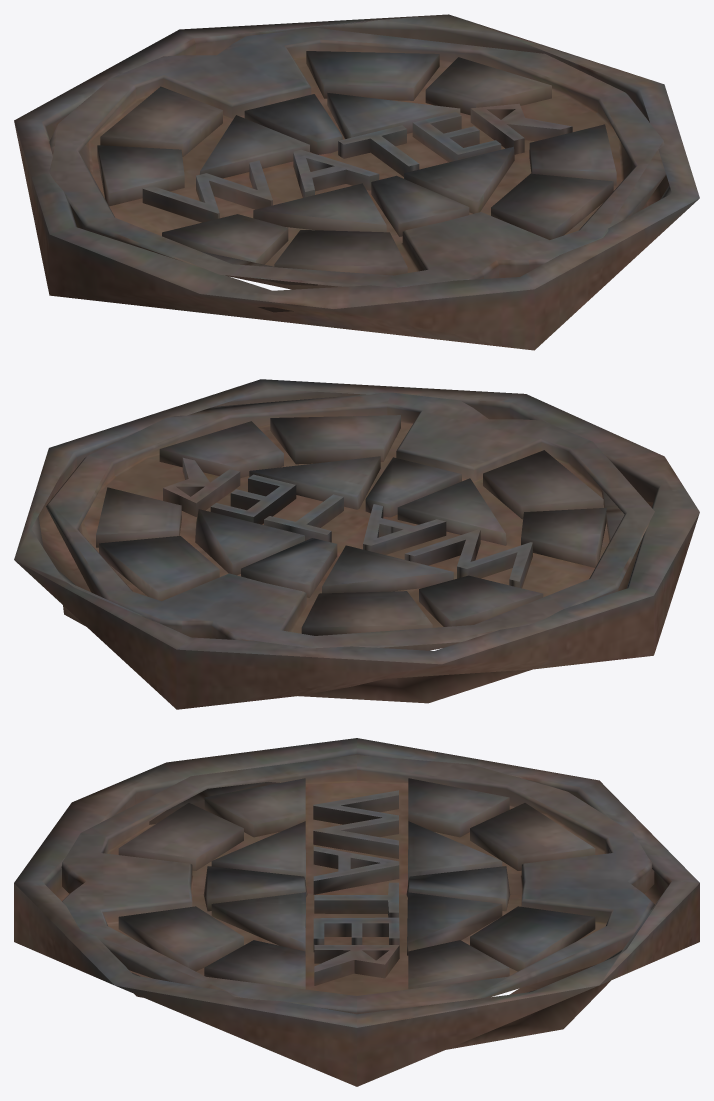
The model's file is water_manhole_cover.gltf.
3 renders of one model, top to bottom at view 1: azimuth 30°, elevation 25°; view 2: azimuth 150°, elevation 25°; view 3: azimuth 270°, elevation 25°, orthographic. The views are drawn at different scales.
Visible parts, largest first — view 1: water_manhole_cover, water_manhole_cover_frame; view 2: water_manhole_cover, water_manhole_cover_frame; view 3: water_manhole_cover, water_manhole_cover_frame.
Part boxes in pixels (x1,y1,x2,y2): water_manhole_cover: (49,28,665,289); water_manhole_cover_frame: (14,14,699,350); water_manhole_cover: (46,392,654,650); water_manhole_cover_frame: (14,379,699,709); water_manhole_cover: (61,755,654,1014); water_manhole_cover_frame: (14,738,699,1086).
Size of the model in its own units: 0.6908 by 0.0676 by 0.6908.
Materials: 1 (1 with a texture image).
